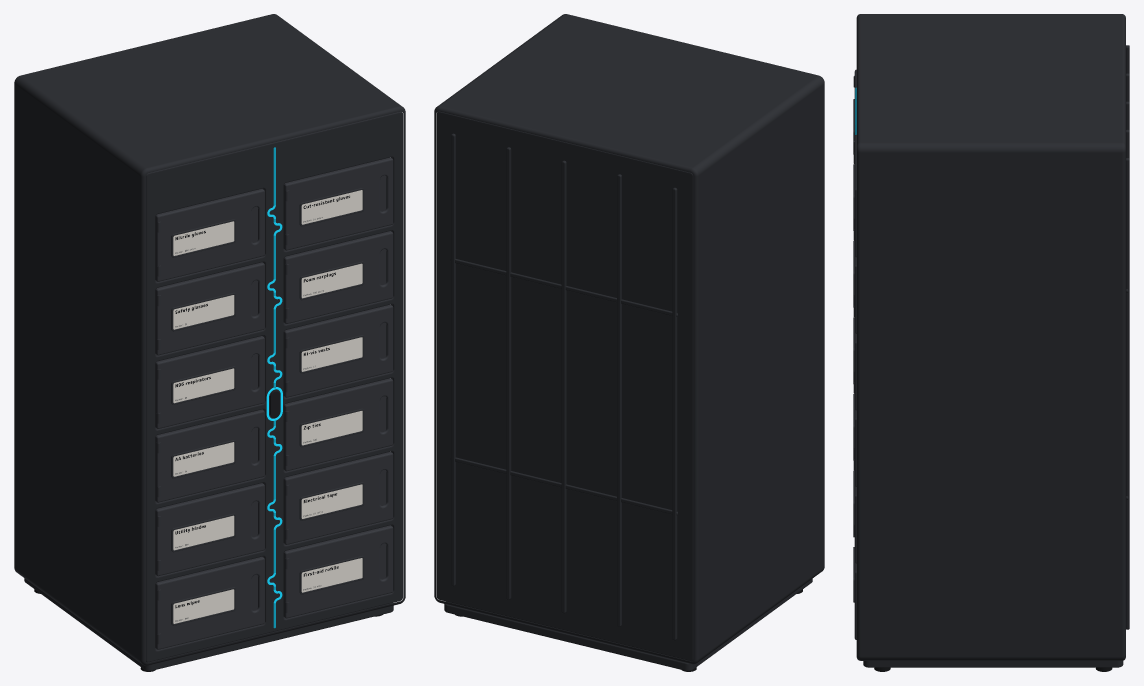
The picture shows the model from 3 angles, left to right: view 1: azimuth 30°, elevation 25°; view 2: azimuth 150°, elevation 25°; view 3: azimuth 270°, elevation 25°; orthographic projection. The views are drawn at different scales.
Parts seen in each view (by area): view 1: Skin, Door (×12), Bezel, PlacardInsert (×12), Plinth, Stroke (×2); view 2: Back, Skin, BackRibs, Plinth; view 3: Skin, BackRibs, Plinth.
Boxes of the visible parts, box(x1,y1,x2,y2) form: Skin: box(14, 14, 405, 665); Door (×12): box(155, 157, 393, 649); Bezel: box(146, 111, 402, 662); PlacardInsert (×12): box(173, 190, 362, 623); Plinth: box(24, 578, 393, 670); Stroke (×2): box(267, 148, 282, 627); Back: box(437, 111, 693, 661); Skin: box(434, 14, 824, 664); BackRibs: box(450, 133, 677, 640); Plinth: box(444, 578, 812, 670); Skin: box(856, 14, 1125, 660); BackRibs: box(1126, 45, 1129, 629); Plinth: box(863, 660, 1123, 667).
Bounding box in the file's own units: 0.99 × 1.83 × 0.86.
25 materials, 1 textured.
